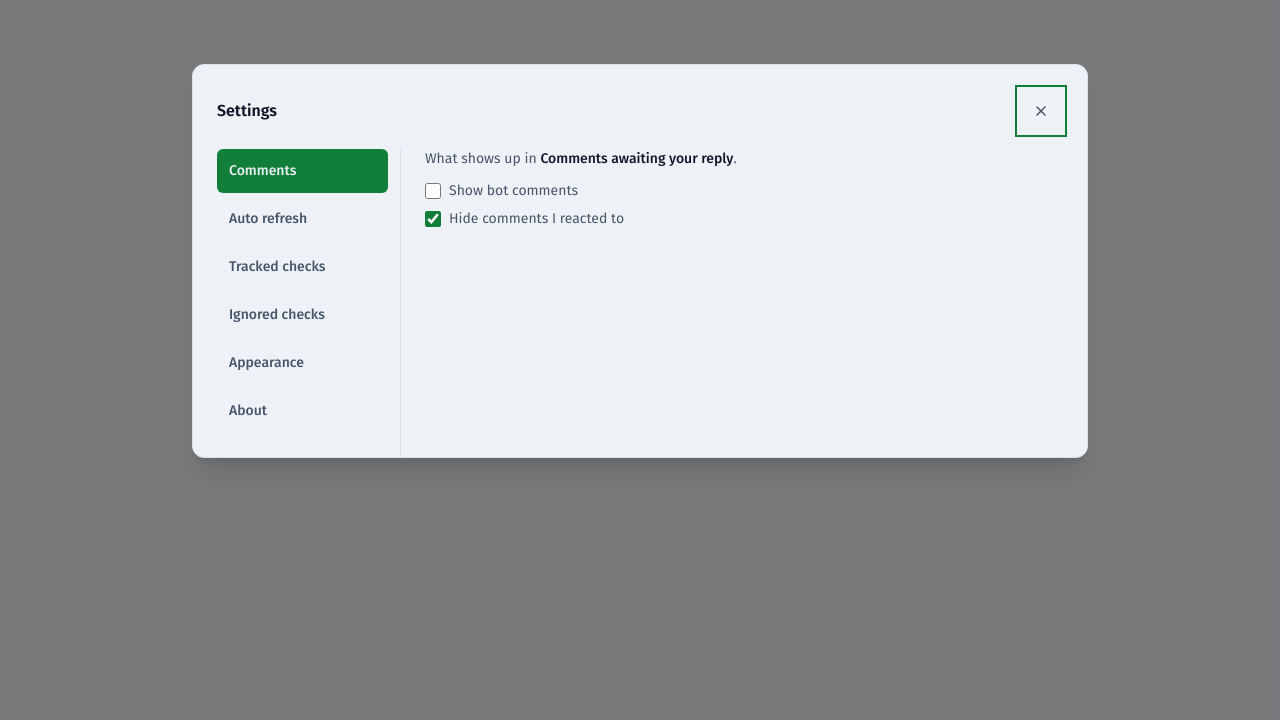
Test: SettingsModal › lists every stored check with its own name field and mark
Click the tab "Tracked checks" at (302, 267), box [217, 245, 388, 289]
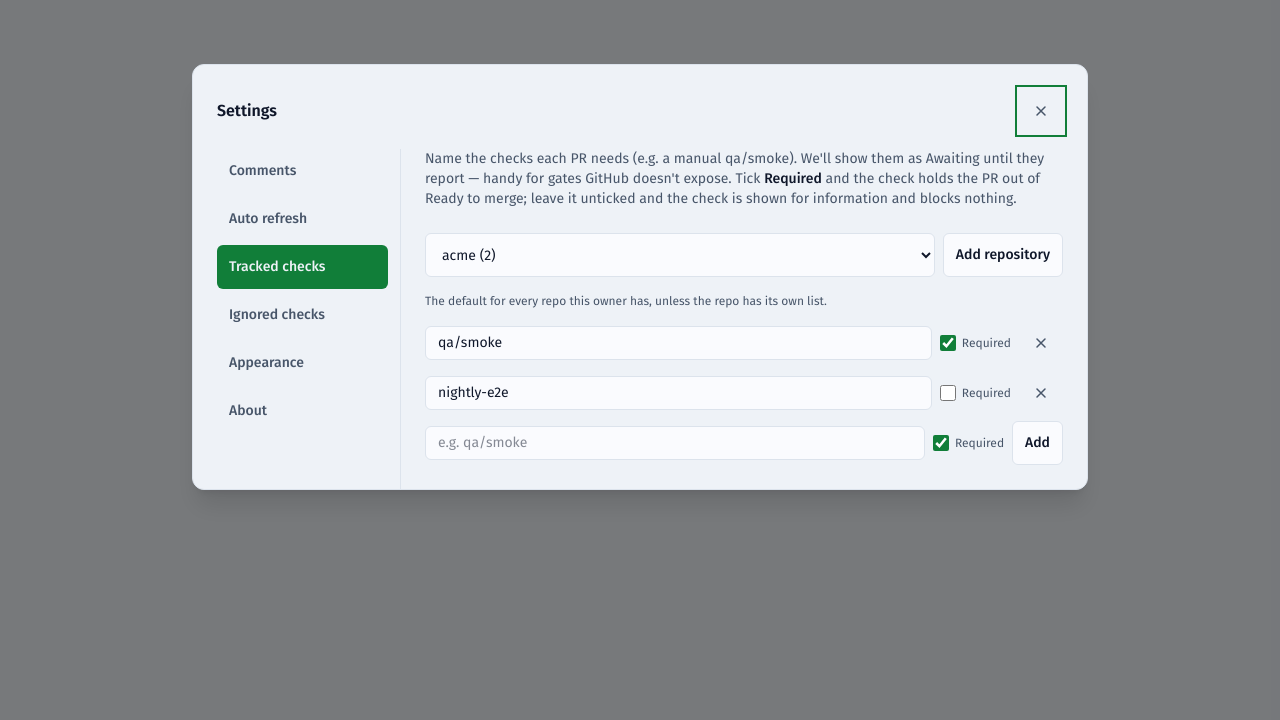
expect the field named "Check 1 for acme" holds "qa/smoke": met, box [425, 326, 932, 360]
expect the field named "Check 2 for acme" holds "nightly-e2e": met, box [425, 376, 932, 410]
expect the checkbox named "qa/smoke is required for acme" is checked: met, box [940, 335, 956, 351]
